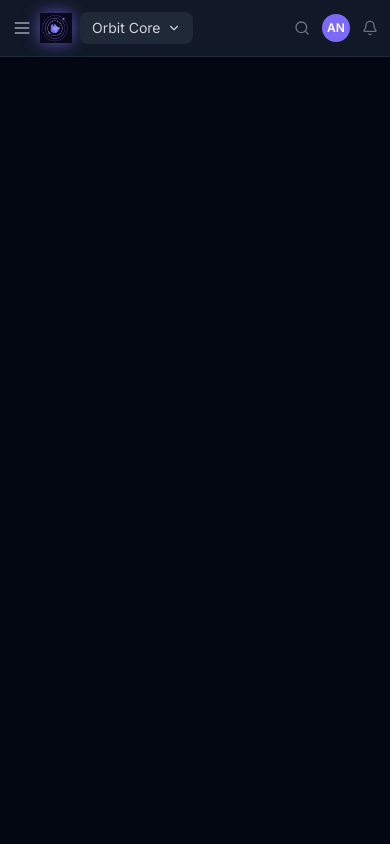
Test: Mobile nav drawer › the hamburger is mobile-only and reports its state via aria
Click the button named "Open navigation" at point(22, 28), box [12,18,32,38]
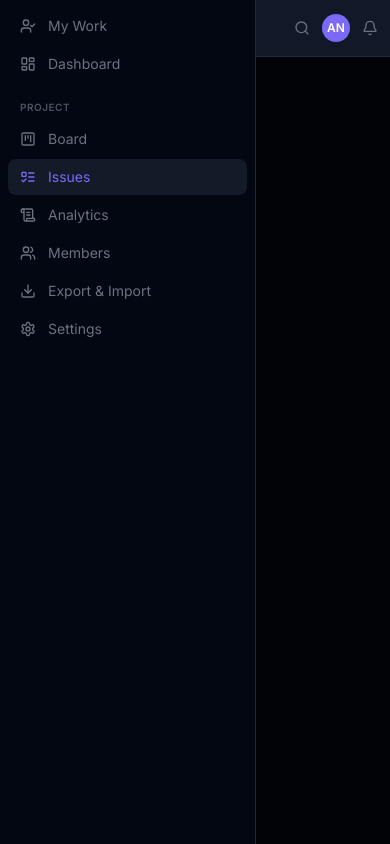
Now the button named "Open navigation" is expanded, box [12,18,32,38]
